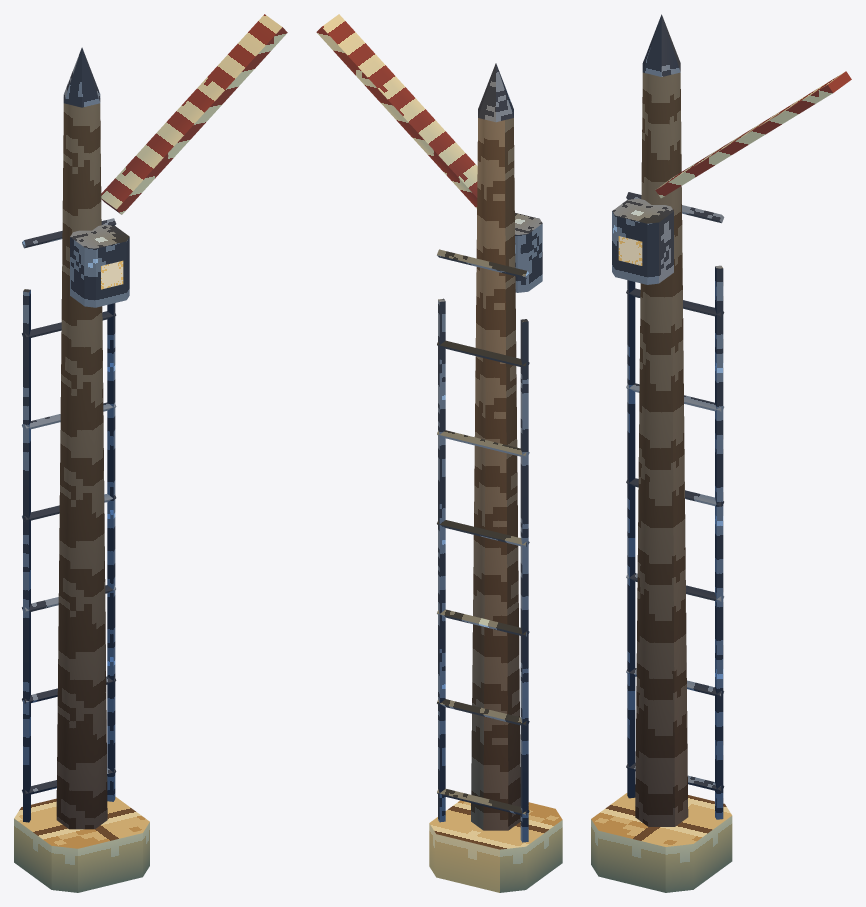
File: wrail.signal__clear.glb
3 views of the same model, side by side, from view 1: azimuth 30°, elevation 25°; view 2: azimuth 150°, elevation 25°; view 3: azimuth 330°, elevation 25° (orthographic). The views are drawn at different scales.
Parts seen in each view (by area): view 1: kit_mast, kit_ladder, kit_base, kit_arm, kit_lamp, kit_cap, kit_card_lens; view 2: kit_mast, kit_ladder, kit_base, kit_arm, kit_lamp, kit_cap; view 3: kit_mast, kit_ladder, kit_base, kit_lamp, kit_arm, kit_cap, kit_card_lens.
Boxes of the visible parts, x1,y1,x2,y2 form: kit_mast: [56, 103, 107, 829]; kit_ladder: [22, 218, 116, 822]; kit_base: [14, 796, 149, 892]; kit_arm: [101, 14, 287, 214]; kit_lamp: [70, 224, 129, 307]; kit_cap: [63, 47, 100, 107]; kit_card_lens: [101, 260, 123, 289]; kit_mast: [471, 118, 520, 830]; kit_ladder: [437, 249, 529, 842]; kit_base: [429, 800, 562, 892]; kit_arm: [316, 14, 477, 208]; kit_lamp: [515, 213, 542, 292]; kit_cap: [478, 63, 513, 122]; kit_mast: [635, 72, 688, 826]; kit_ladder: [626, 192, 724, 819]; kit_base: [591, 793, 732, 892]; kit_lamp: [612, 198, 673, 284]; kit_arm: [655, 71, 851, 198]; kit_cap: [642, 14, 680, 76]; kit_card_lens: [618, 236, 642, 265].
Size of the model in its own units: 1.67 by 5.55 by 0.72.
5 materials, 5 textured.
